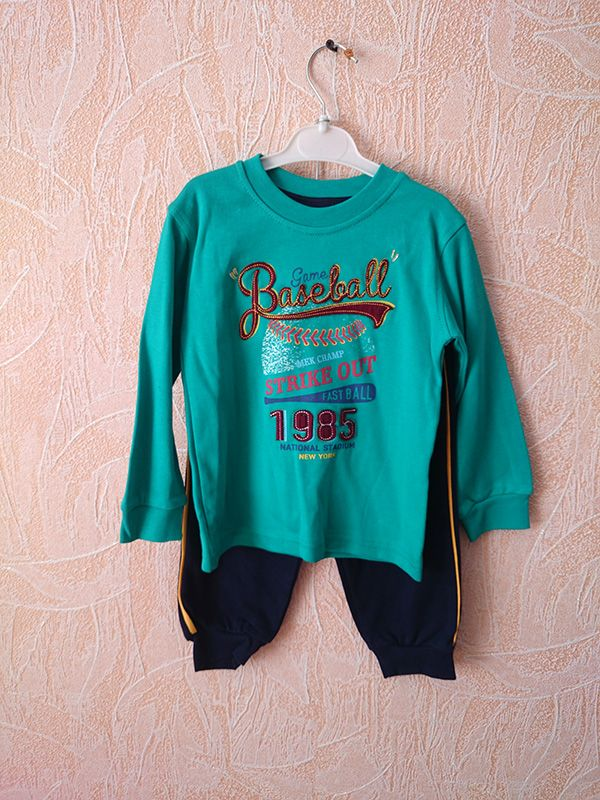clothes: (103, 149, 528, 690)
